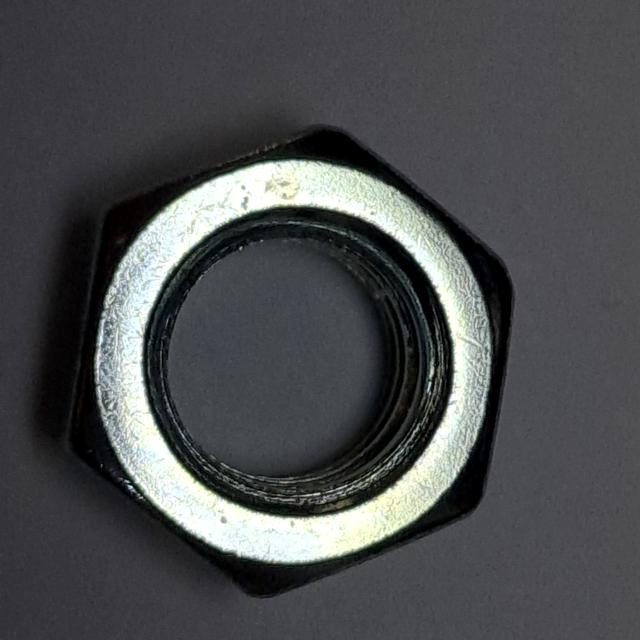Excellent: (49, 107, 528, 611)
